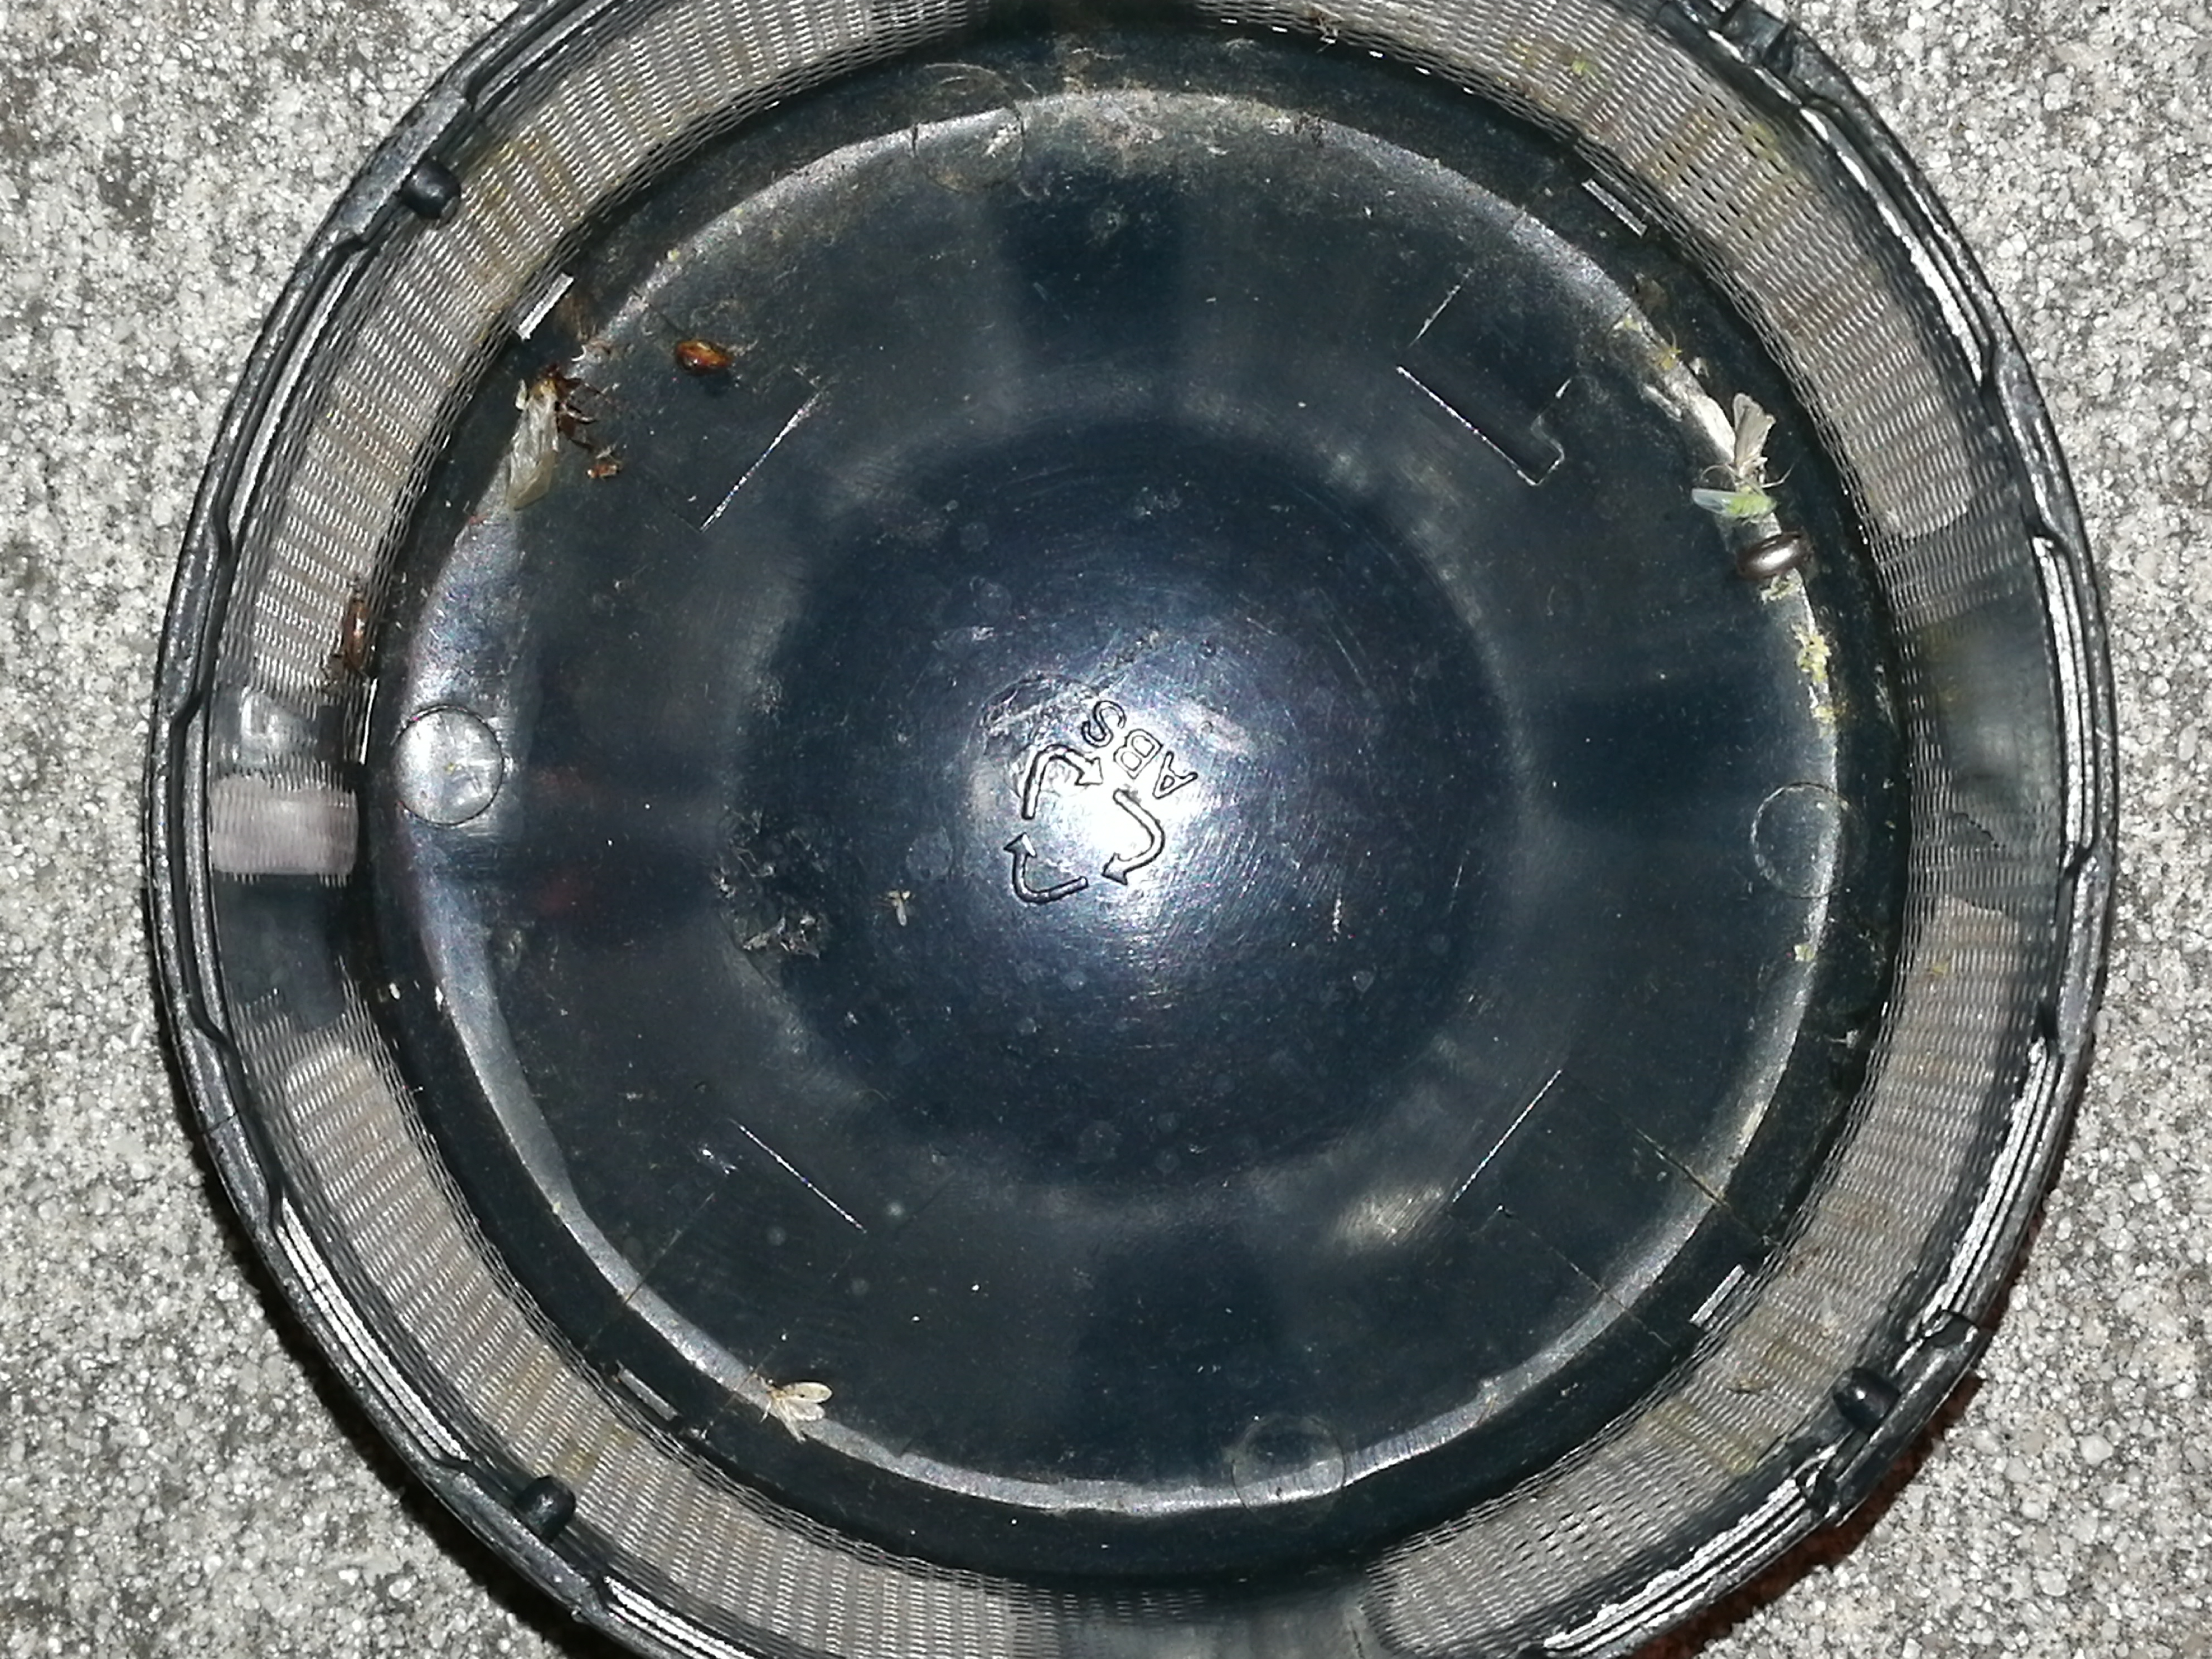beetle: (538, 364, 599, 448), (1740, 533, 1810, 584)
moth: (1693, 394, 1775, 491), (758, 1378, 831, 1445)
